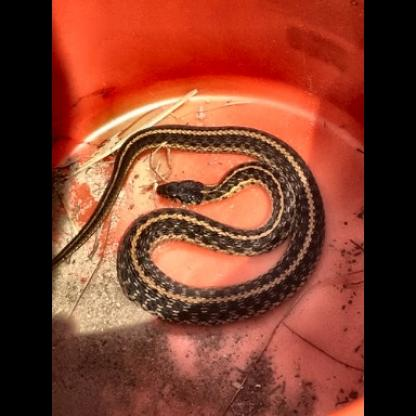Snake: (108, 123, 328, 329), (152, 176, 224, 208)
